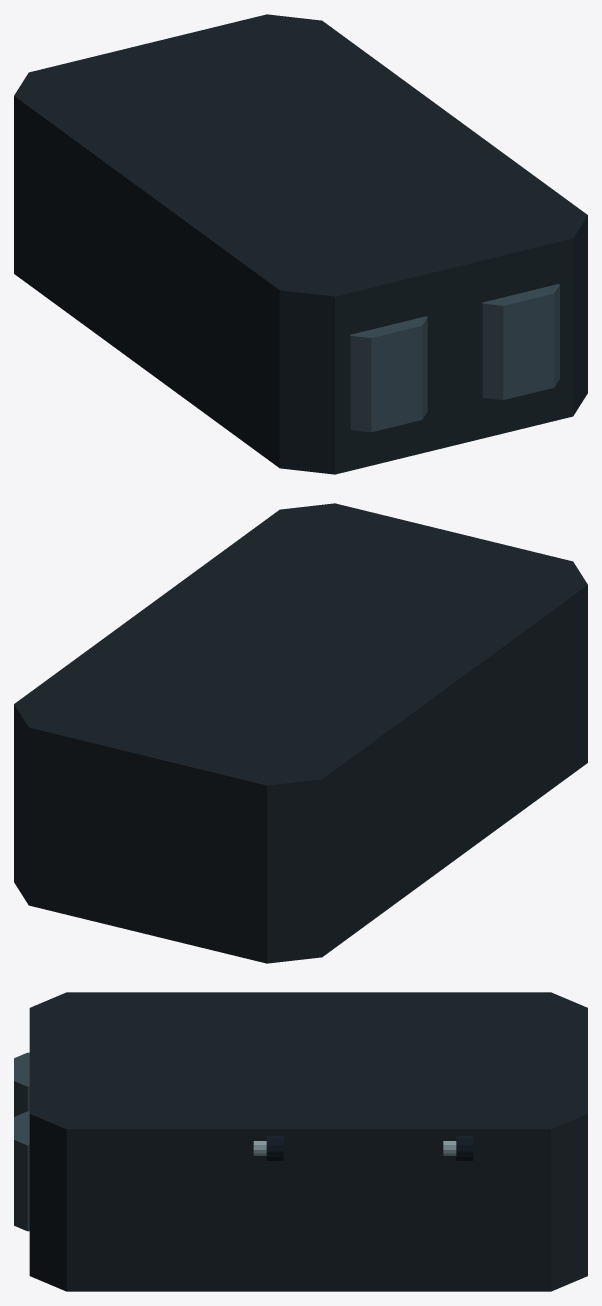
Rendered from enemy_runner_4k_foot_l.obj.
3 views of the same model, one above another, from view 1: azimuth 30°, elevation 25°; view 2: azimuth 150°, elevation 25°; view 3: azimuth 270°, elevation 25° (orthographic). The views are drawn at different scales.
Bounding box in the file's own units: 0.3152 × 0.17 × 0.545.
